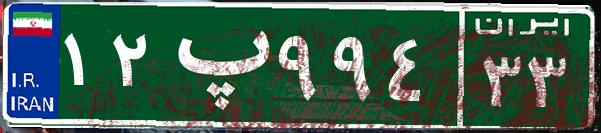1: (57, 26, 110, 107)
2: (110, 28, 158, 105)
3: (475, 38, 525, 113), (525, 38, 570, 115)
4: (385, 28, 445, 110)
9: (273, 28, 330, 110), (330, 28, 385, 110)
پ: (158, 15, 273, 115)
